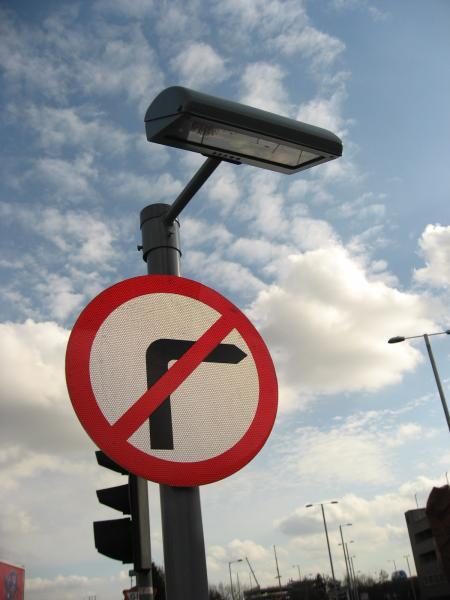no_right_turn: (63, 274, 278, 485)
